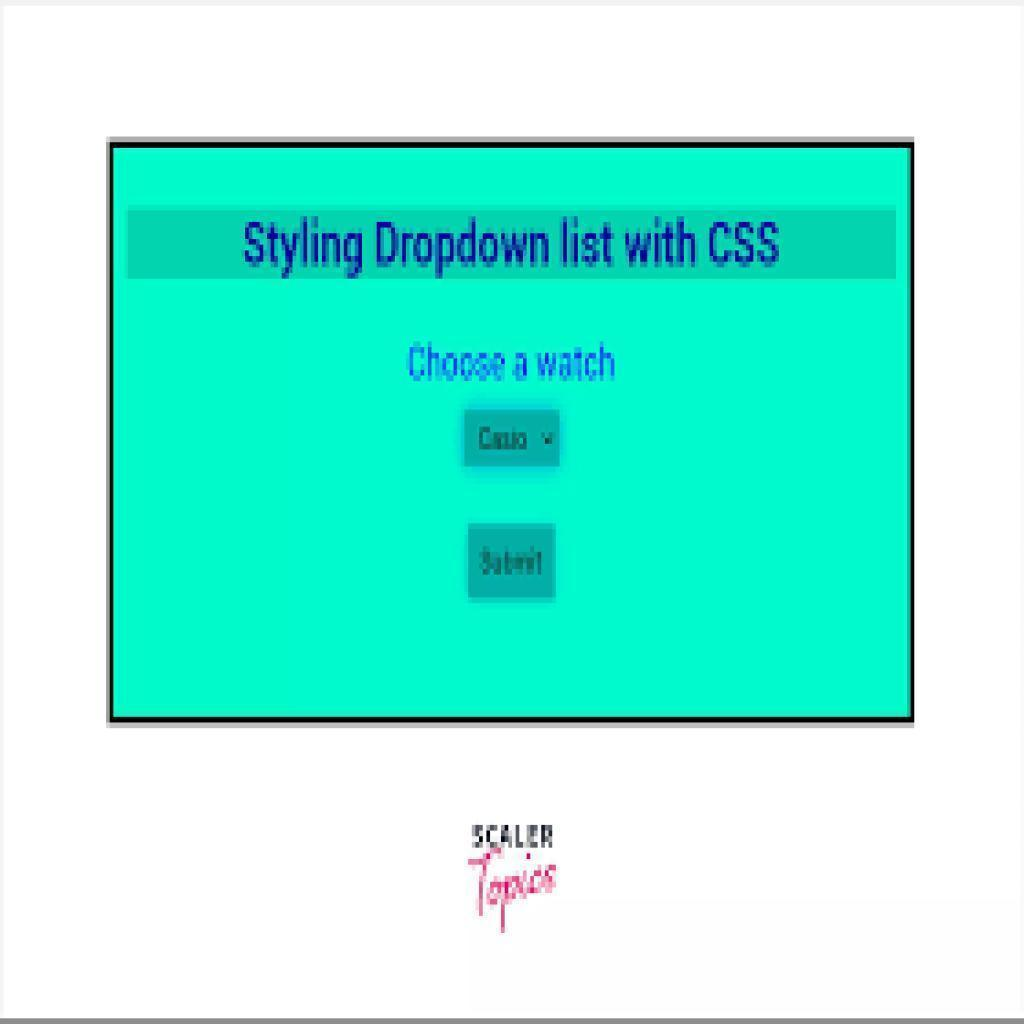button: (466, 520, 556, 598)
dropdown: (461, 405, 557, 465)
